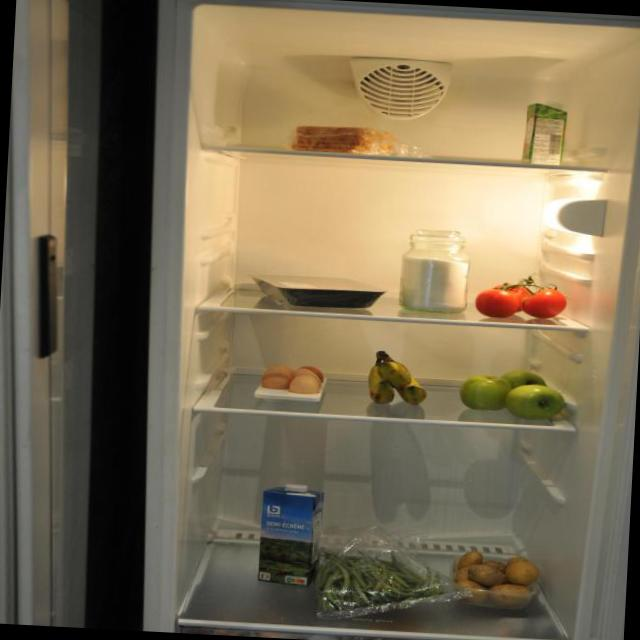Huevos: (262, 361, 332, 398)
Leche: (258, 483, 327, 592)
Manzana: (455, 364, 574, 424)
Patata: (450, 546, 546, 612)
Plátano: (364, 346, 432, 409)
Tomate: (469, 278, 567, 322)
bread: (286, 120, 400, 160)
green_beans: (318, 548, 453, 620)
heavy_cream: (518, 98, 576, 170)
sugar: (393, 226, 470, 316)
